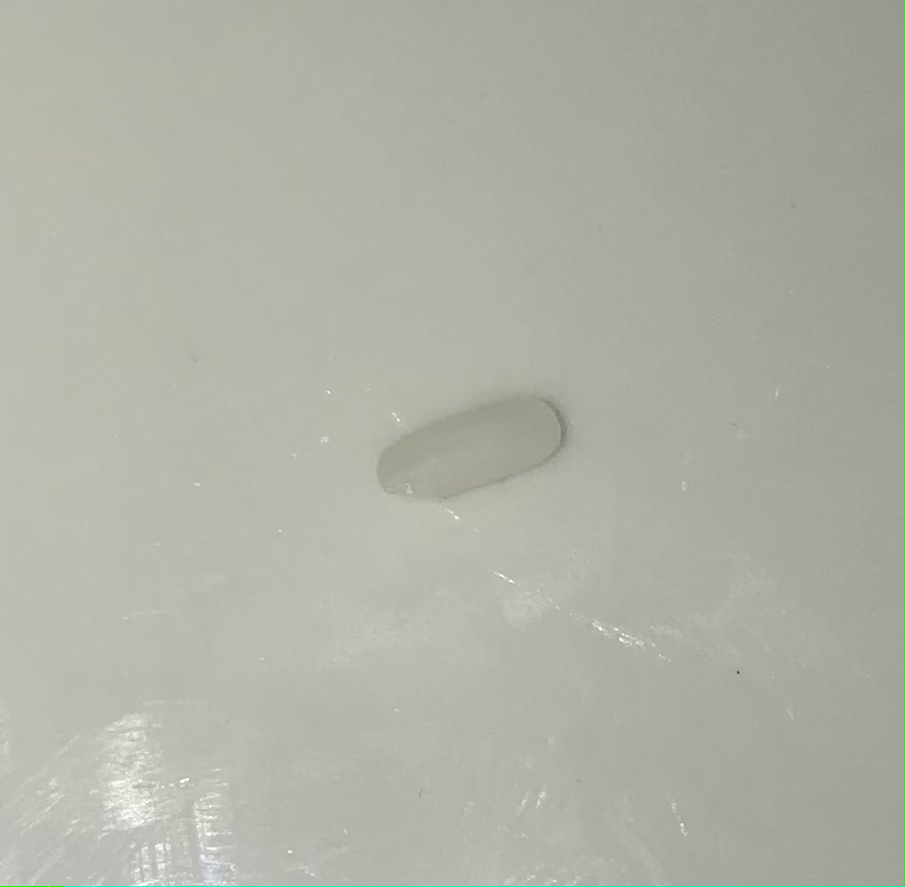Gao Thom Go Cong: (373, 382, 562, 503)
